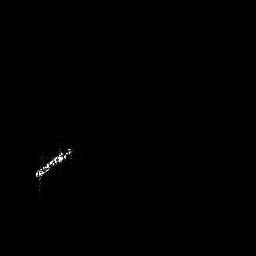ship: (33, 144, 75, 194)
